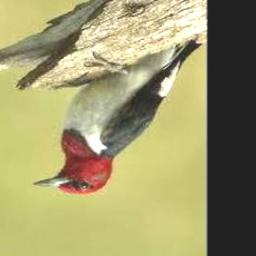Woodpecker: (32, 39, 202, 195)
